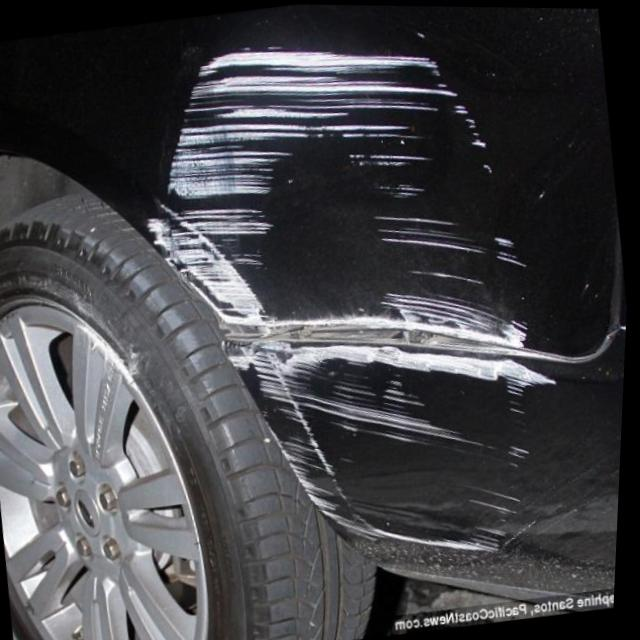Scratch: (112, 15, 577, 598)
